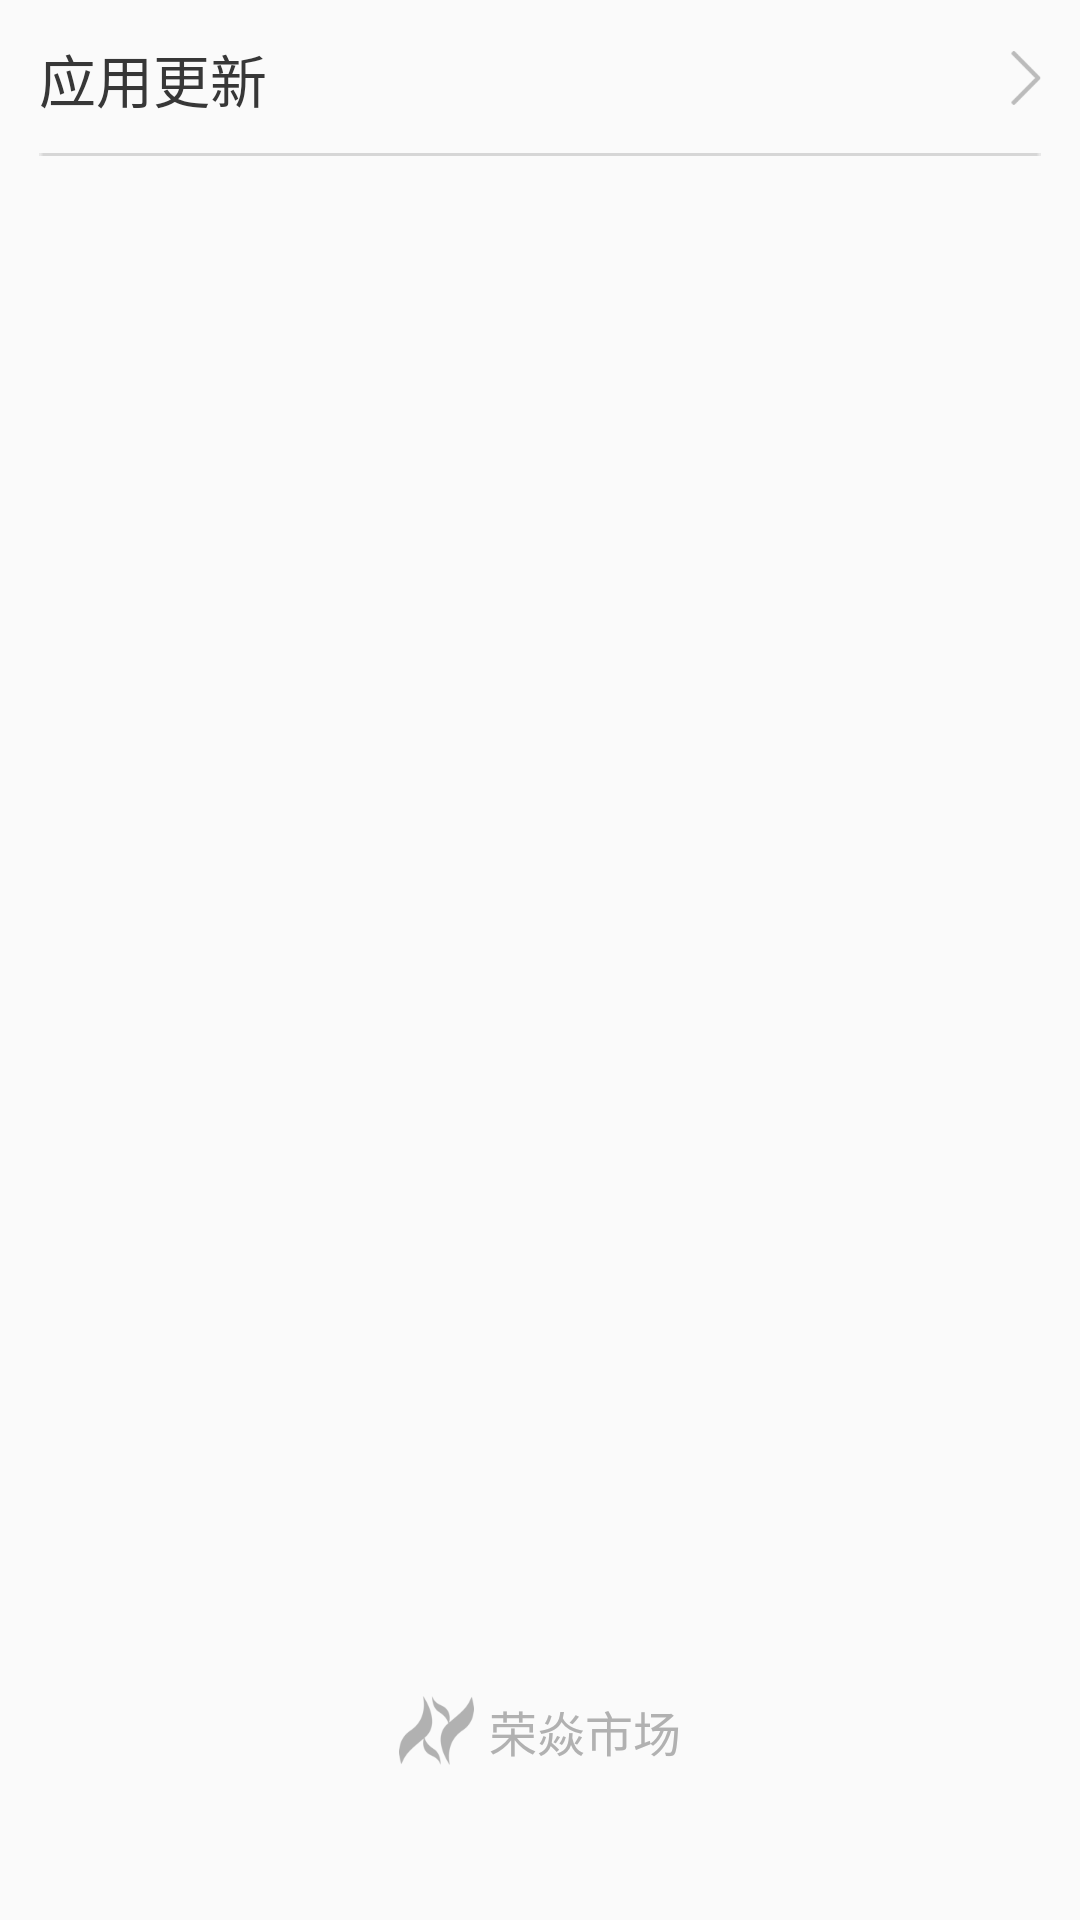

Icons on this 1080px x 1920px Android screen, each with its box as (x1, y1, x2, y2):
enter: (1011, 51, 1040, 105)
